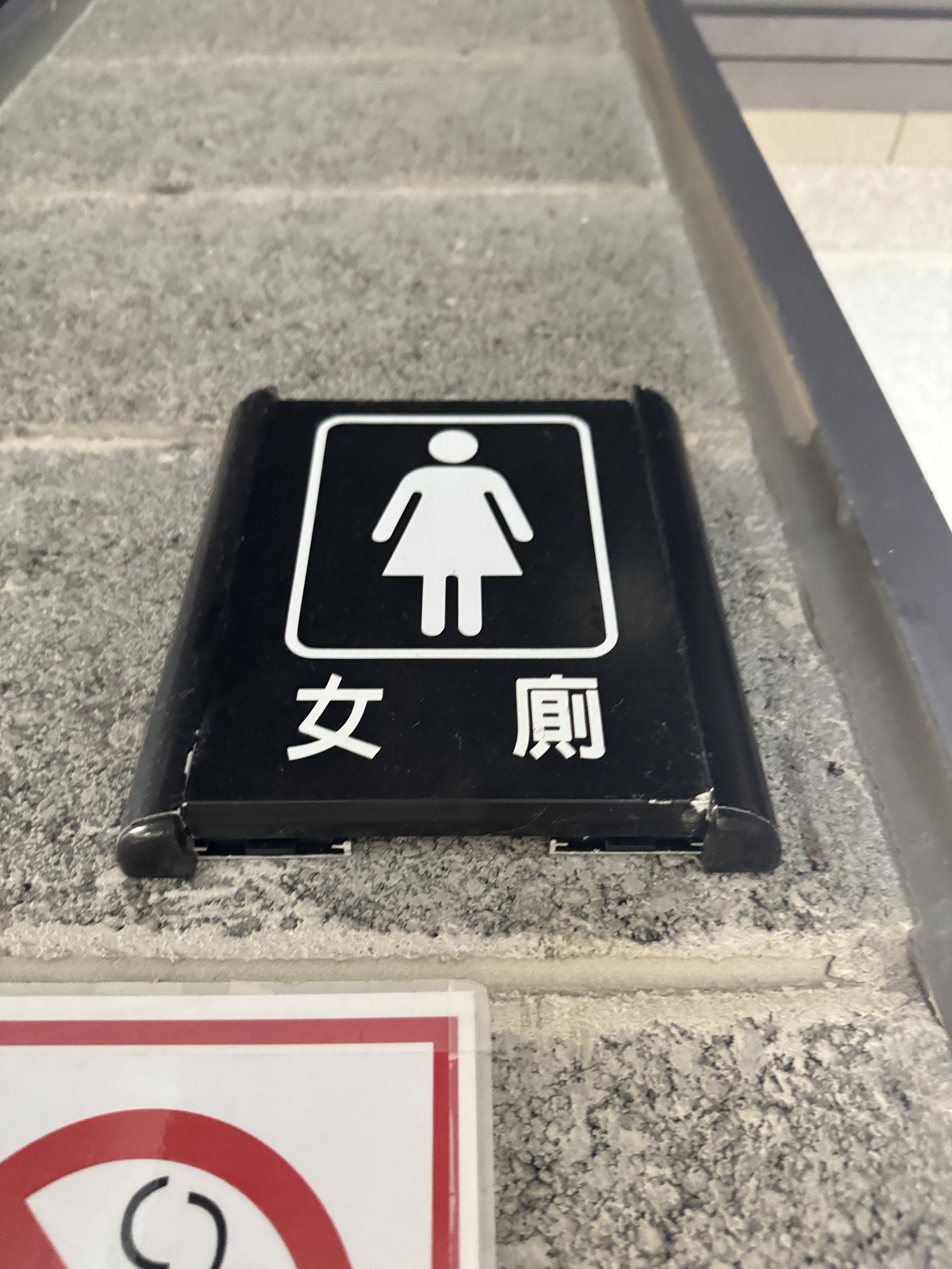toilet_sign: (92, 365, 807, 877)
